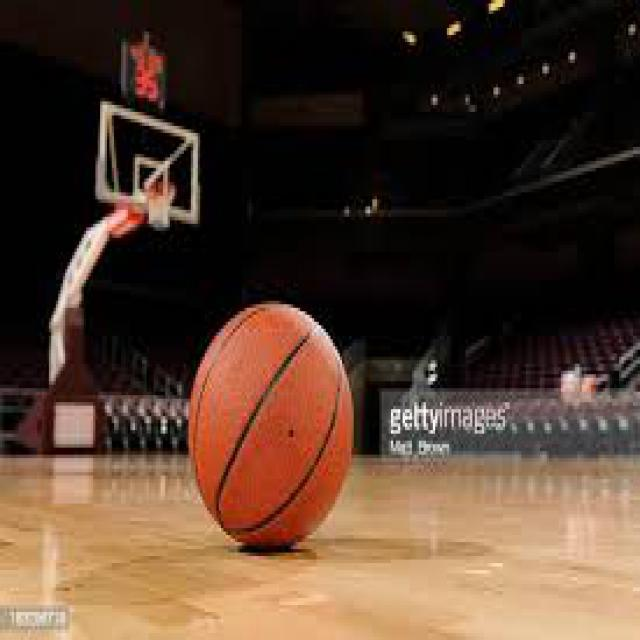basketball: (186, 304, 354, 556)
rim: (144, 178, 177, 196)
